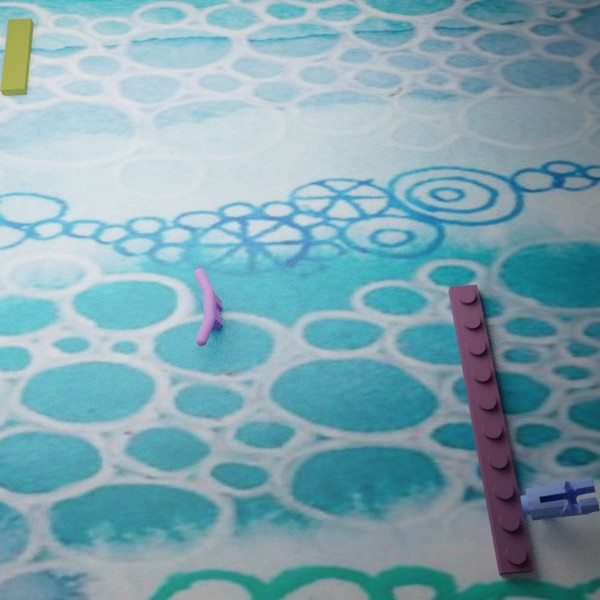lego: (448, 284, 533, 574), (520, 477, 600, 520), (0, 18, 33, 95), (194, 268, 222, 346)
